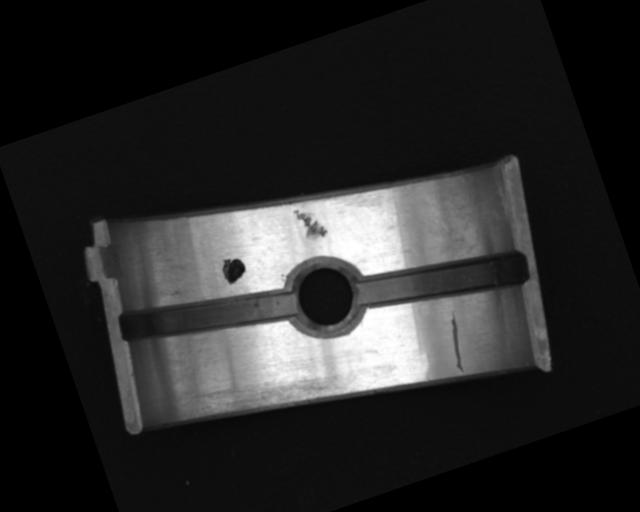blot: (218, 252, 249, 286)
bruise: (291, 201, 328, 244)
gap: (116, 260, 299, 372), (352, 228, 530, 336)
hole: (277, 248, 375, 346)
nick: (438, 308, 474, 375)
scratch: (187, 344, 356, 444)
